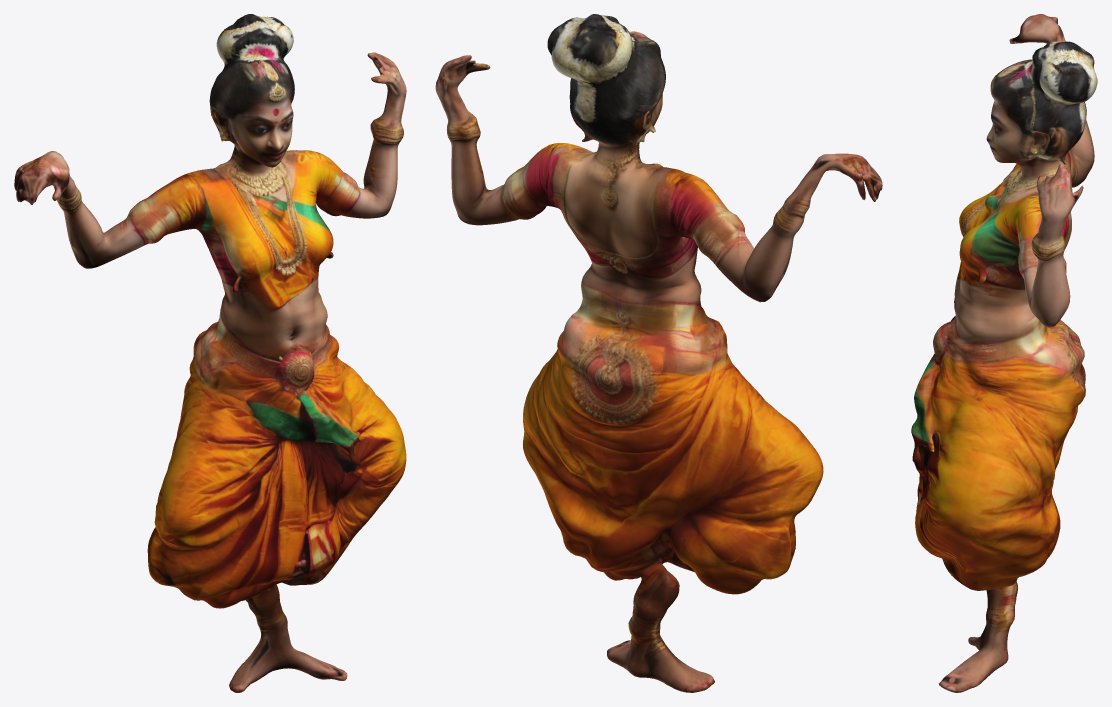
The picture shows the model from 3 angles, left to right: view 1: azimuth 30°, elevation 25°; view 2: azimuth 150°, elevation 25°; view 3: azimuth 270°, elevation 25°; orthographic projection. The views are drawn at different scales.
Parts seen in each view (by area): view 1: Mesh_0; view 2: Mesh_0; view 3: Mesh_0.
Boxes of the visible parts, bbox=[...] form: Mesh_0: bbox=[14, 14, 406, 692]; Mesh_0: bbox=[435, 14, 882, 692]; Mesh_0: bbox=[911, 14, 1097, 692].
Bounding box in the file's own units: 1.3 × 2 × 0.5333.
Materials: 1 (1 with a texture image).
